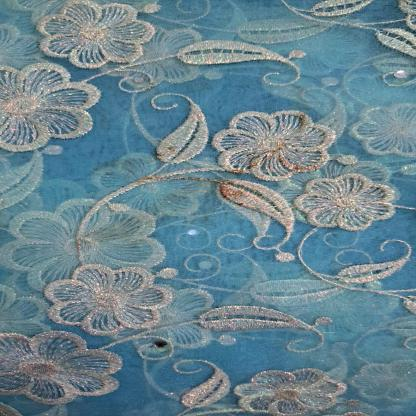spot: (75, 105, 334, 256)
